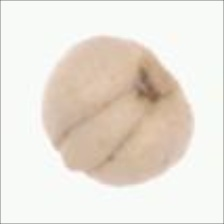L5: (54, 87, 150, 174), (128, 48, 179, 107), (47, 138, 93, 180)
L6: (39, 33, 198, 192)
